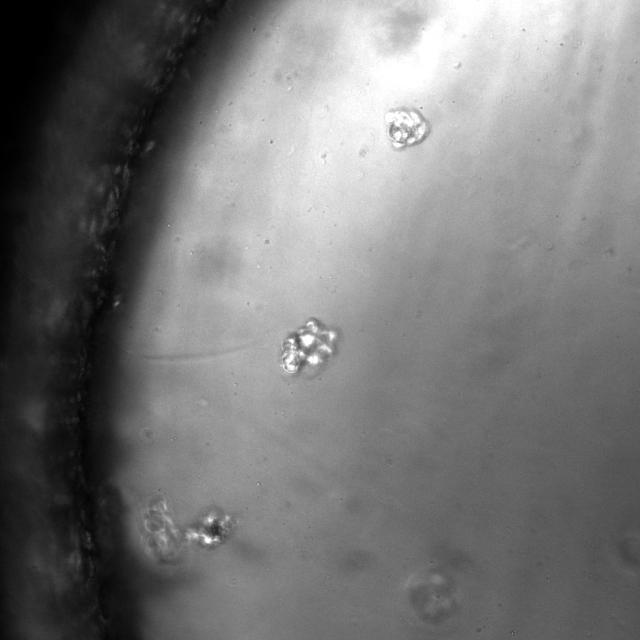organoid: (141, 498, 236, 562), (280, 317, 338, 374), (385, 107, 429, 149)
